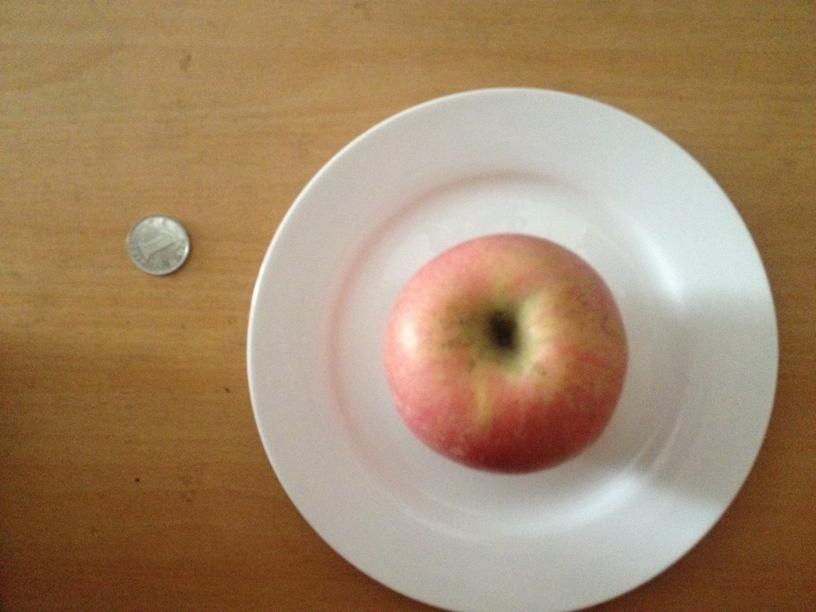apple: (383, 233, 627, 473)
coin: (126, 214, 190, 277)
